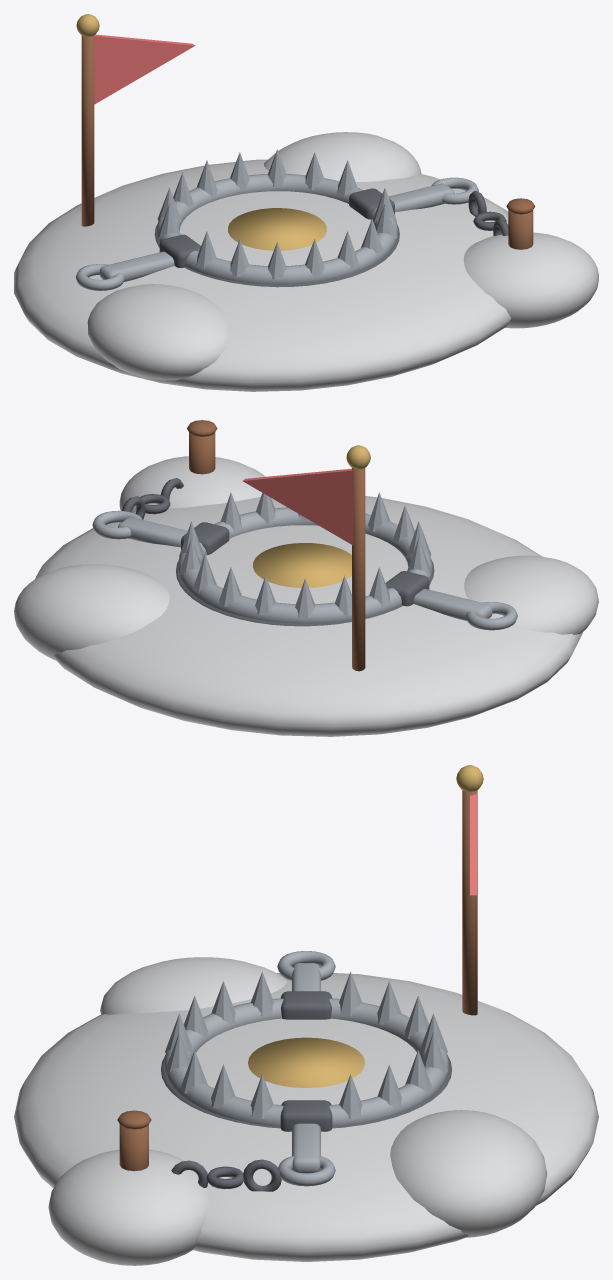
File: csapda.glb
The picture shows the model from 3 angles, top to bottom: view 1: azimuth 30°, elevation 25°; view 2: azimuth 150°, elevation 25°; view 3: azimuth 270°, elevation 25°; orthographic projection. The views are drawn at different scales.
Parts seen in each view (by area): view 1: Csapda; view 2: Csapda; view 3: Csapda.
Boxes of the visible parts, <box> form: Csapda: <box>14,14,598,391</box>; Csapda: <box>14,420,598,736</box>; Csapda: <box>14,765,598,1265</box>.
Bounding box in the file's own units: 0.75 × 0.431 × 0.68.
